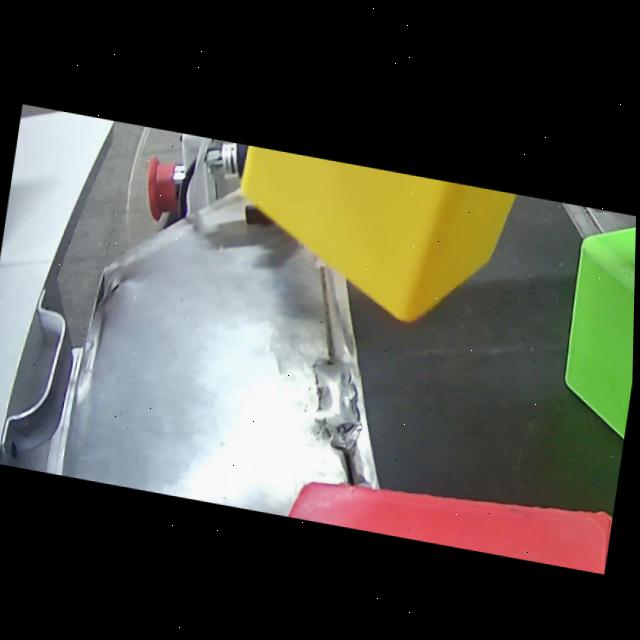greenBox: (545, 198, 637, 500)
redBox: (285, 446, 616, 567)
yellowBox: (221, 140, 569, 347)
